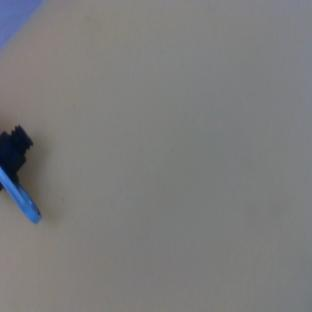part_1_good: (0, 123, 42, 227)
